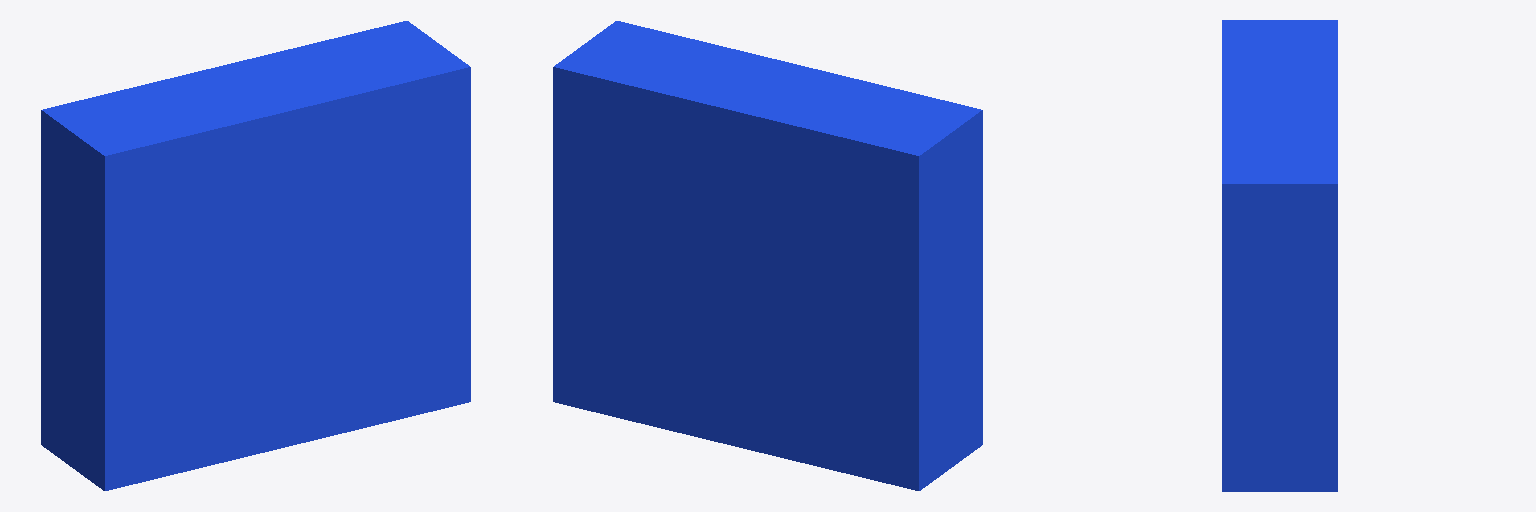
robot.urdf — static_mid_wall:
<?xml version="1.0"?>
<robot name="static_mid_wall">
  <link name="box">
    <inertial>
      <origin xyz="0 0 0" rpy="0 0 0"/>
      <mass value="1.0"/>
      <inertia ixx="1e-03" ixy="0" ixz="0" iyy="1e-03" iyz="0" izz="1e-03"/>
    </inertial>
    <collision name="collision">
      <origin xyz="0 0 0" rpy="0 0 0"/>
      <geometry>
        <box size="0.40 0.12 0.35"/>
      </geometry>
    </collision>
    <visual name="visual">
      <origin xyz="0 0 0" rpy="0 0 0"/>
      <geometry>
        <box size="0.40 0.12 0.35"/>
      </geometry>
      <material name="blue">
        <color rgba="0.2 0.4 1.0 0.7"/>
      </material>
    </visual>
  </link>
  <gazebo reference="box">
    <static>true</static>
    <material>Gazebo/Blue</material>
  </gazebo>
</robot>

--- Facts derived from the render (not from the file) ---
The picture shows the robot from 3 angles, left to right: view 1: azimuth 30°, elevation 25°; view 2: azimuth 150°, elevation 25°; view 3: azimuth 270°, elevation 25°; orthographic projection.
Model static_mid_wall with 1 links and 0 joints (none), rooted at box, posed all joints at 0.
Links seen in each view (by area): view 1: box; view 2: box; view 3: box.
Boxes of the visible links, <box> form: box: <box>41,21,470,490</box>; box: <box>553,21,982,490</box>; box: <box>1222,20,1337,491</box>.
Size in the robot's own frame: 0.4 by 0.12 by 0.35 metres.
Geometry: primitives only (box / cylinder / sphere), no mesh files.
